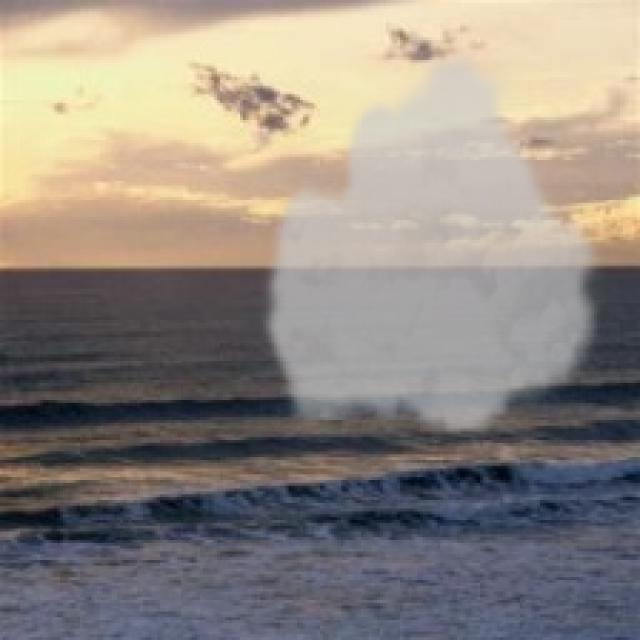smoke: (260, 43, 609, 440)
